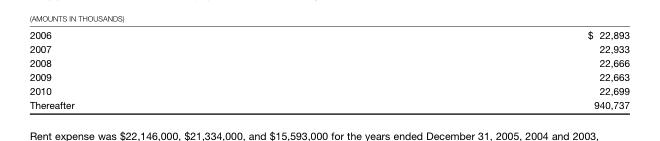table: (28, 28, 628, 109)
table column: (28, 28, 330, 109), (330, 28, 628, 109)
table row: (28, 41, 628, 55), (28, 55, 628, 69), (28, 69, 628, 83), (28, 28, 628, 41), (28, 83, 628, 96), (28, 96, 628, 109)
